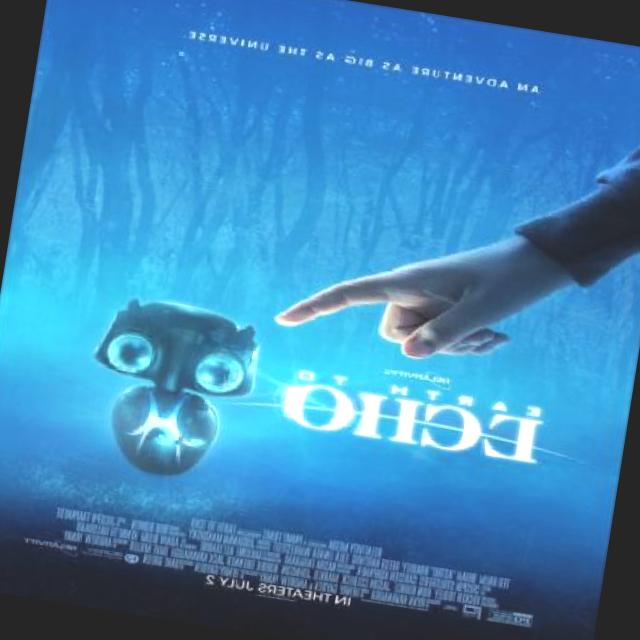Person: (271, 65, 640, 391)
